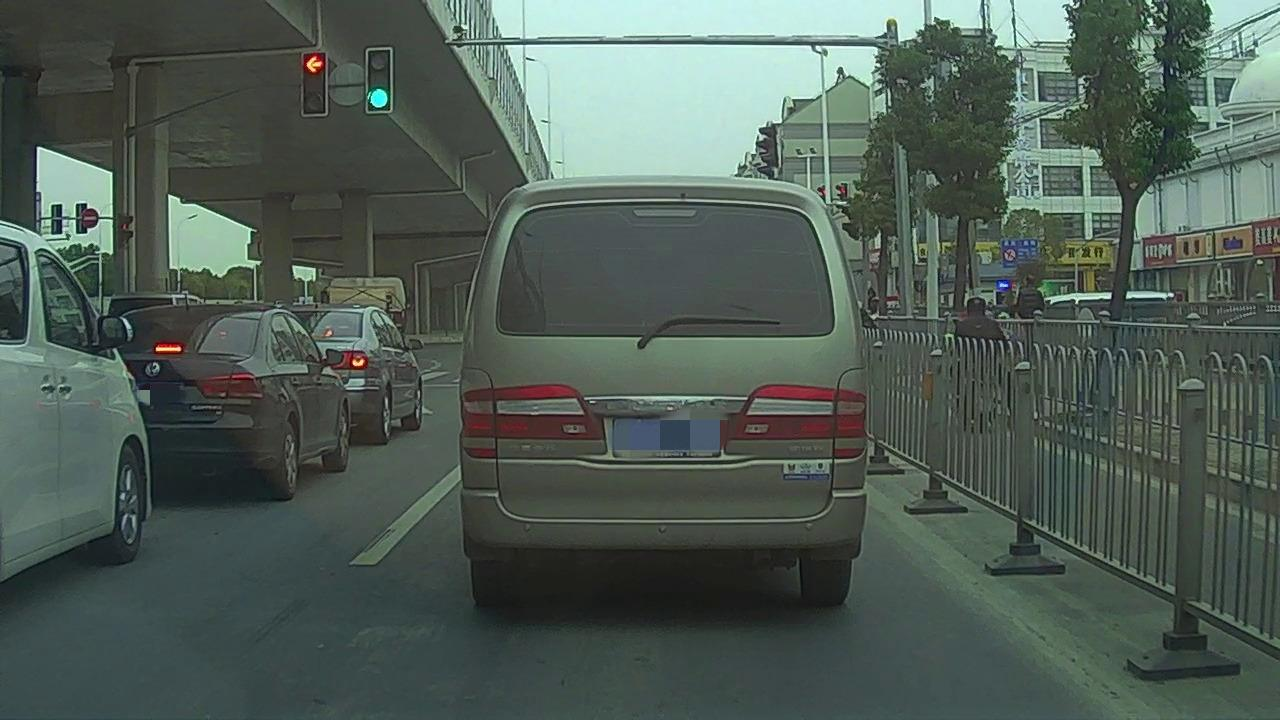traffic_light: (367, 50, 391, 113), (304, 53, 327, 116)
